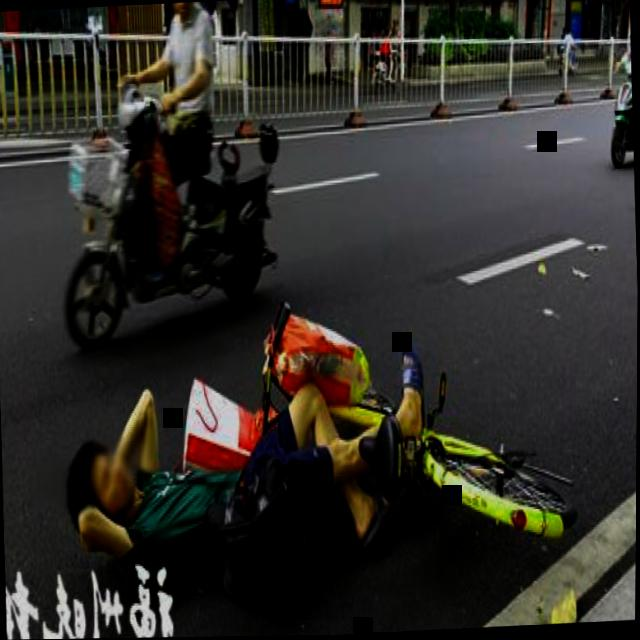Fall-Detected: (65, 316, 438, 613)
